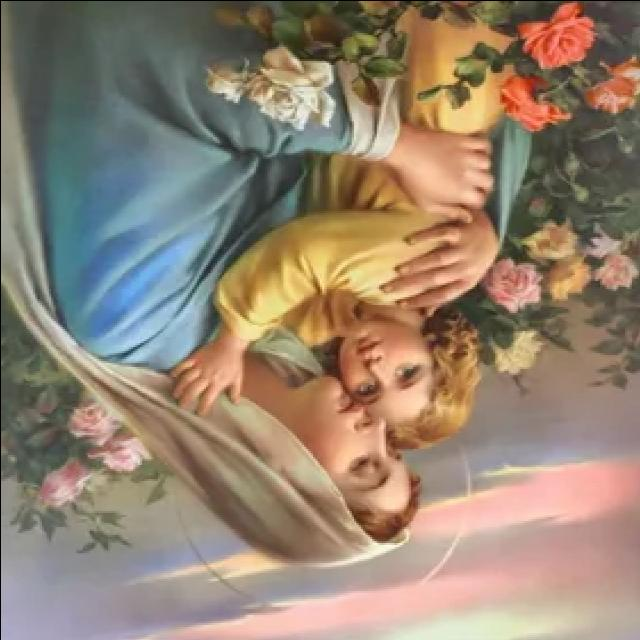mother of god: (0, 1, 526, 574)
